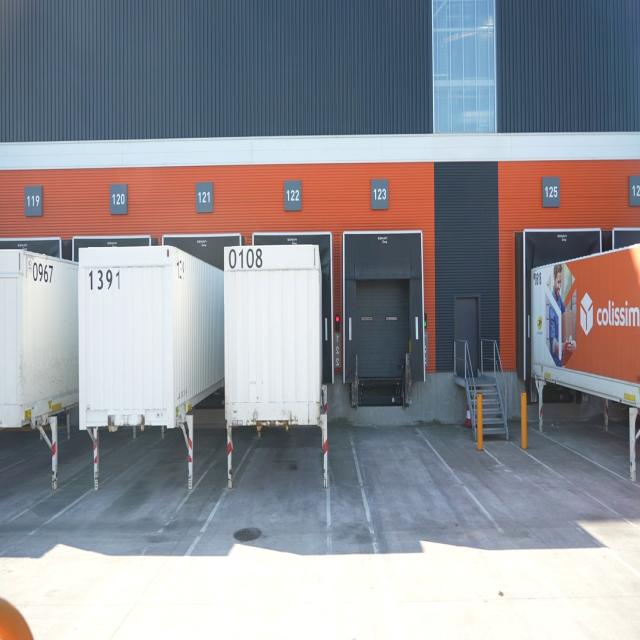Code: (84, 265, 126, 293), (226, 246, 264, 274), (29, 256, 57, 286)
